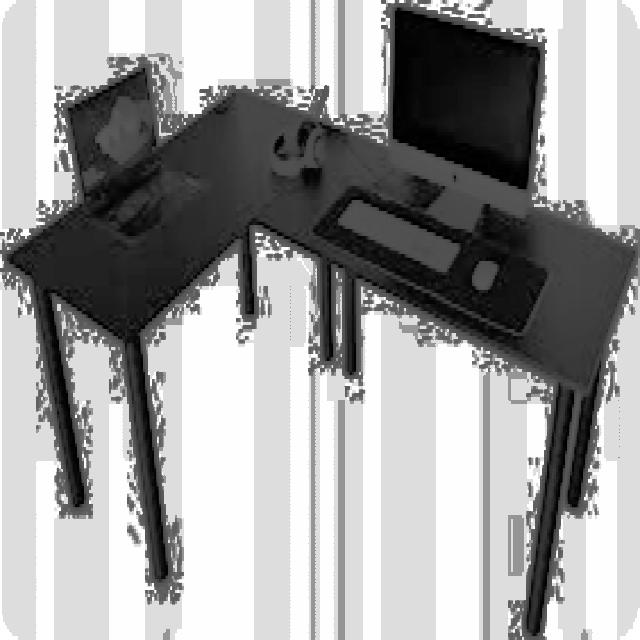table: (2, 79, 636, 633)
